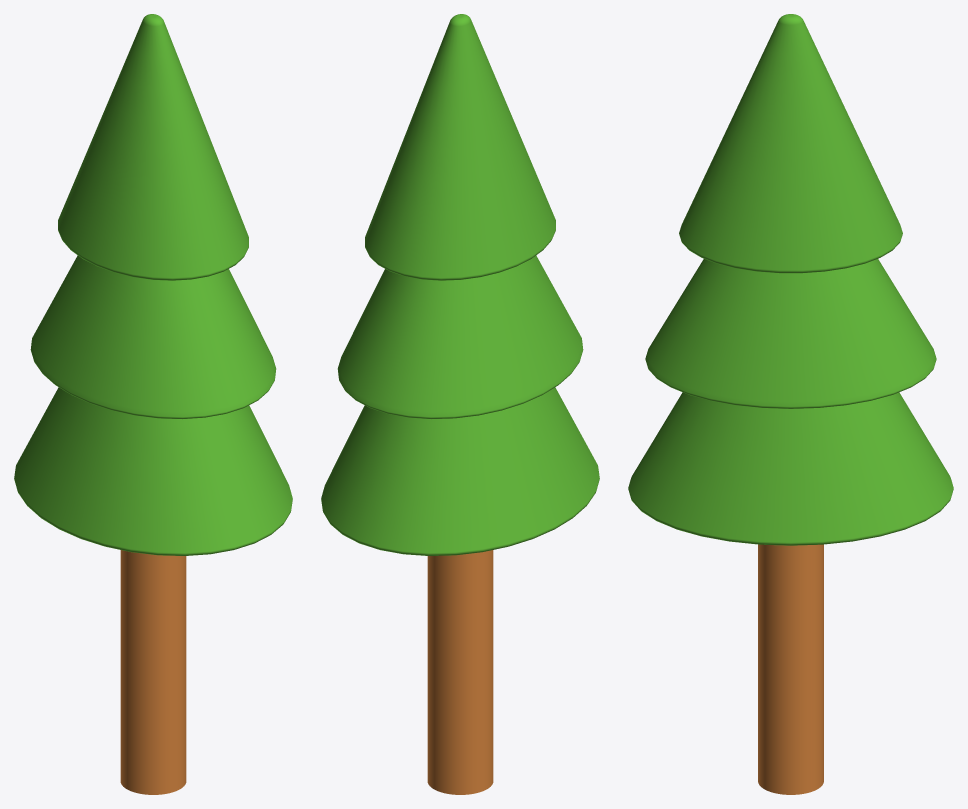
The picture shows the model from 3 angles, left to right: view 1: azimuth 30°, elevation 25°; view 2: azimuth 150°, elevation 25°; view 3: azimuth 270°, elevation 25°; orthographic projection.
Parts seen in each view (by area): view 1: Cone, Cone 3, Cone 2, trunk; view 2: Cone, Cone 3, Cone 2, trunk; view 3: Cone, Cone 3, Cone 2, trunk.
Boxes of the visible parts, <box> form: Cone: <box>14,387,292,555</box>; Cone 3: <box>58,14,248,280</box>; Cone 2: <box>30,255,276,419</box>; trunk: <box>120,550,186,794</box>; Cone: <box>321,387,599,555</box>; Cone 3: <box>365,14,555,280</box>; Cone 2: <box>337,255,583,419</box>; trunk: <box>427,550,493,794</box>; Cone: <box>628,392,953,545</box>; Cone 3: <box>679,14,902,273</box>; Cone 2: <box>645,259,936,408</box>; trunk: <box>758,544,823,794</box>.
Size of the model in its own units: 1.59 by 5.12 by 1.97.
